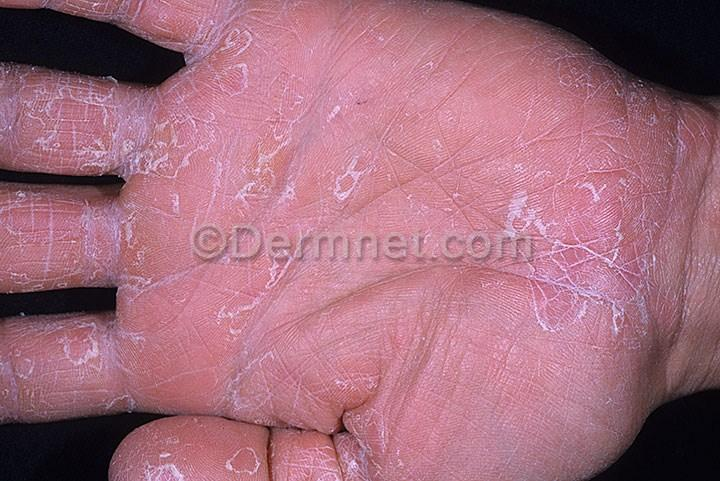Eczema: (509, 206, 610, 306), (75, 81, 164, 171), (350, 342, 447, 419), (600, 223, 696, 299), (388, 169, 479, 246), (63, 192, 142, 280), (621, 170, 716, 240), (7, 74, 74, 173), (132, 89, 238, 151), (556, 165, 636, 242), (0, 200, 67, 289), (205, 150, 290, 220), (257, 216, 324, 304), (120, 256, 196, 331), (620, 134, 715, 191), (485, 164, 567, 230), (521, 282, 607, 343), (49, 324, 115, 403), (600, 92, 686, 151), (128, 152, 201, 220), (216, 0, 292, 64), (267, 70, 346, 129), (199, 280, 277, 339), (2, 338, 63, 413), (247, 126, 325, 183), (178, 424, 255, 481), (215, 358, 287, 418), (548, 64, 614, 128), (351, 416, 414, 481), (611, 292, 685, 347), (267, 432, 344, 481), (148, 0, 214, 54), (111, 320, 175, 372), (196, 49, 264, 97), (318, 148, 378, 202), (115, 438, 187, 481)
